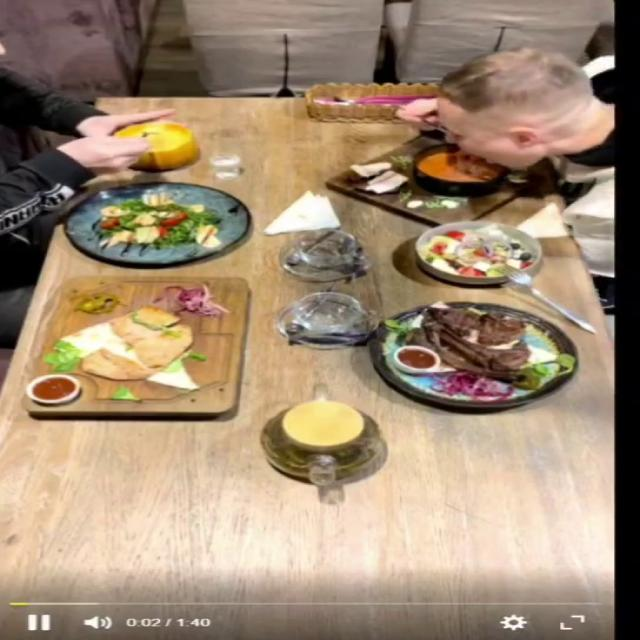alcohol: (197, 147, 253, 185)
meat: (367, 301, 579, 408)
salat: (60, 182, 248, 266), (414, 220, 542, 285)
soup: (324, 136, 554, 227), (112, 121, 199, 170)
tea: (280, 399, 364, 447)
